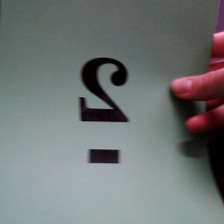green2: (67, 54, 137, 174)
